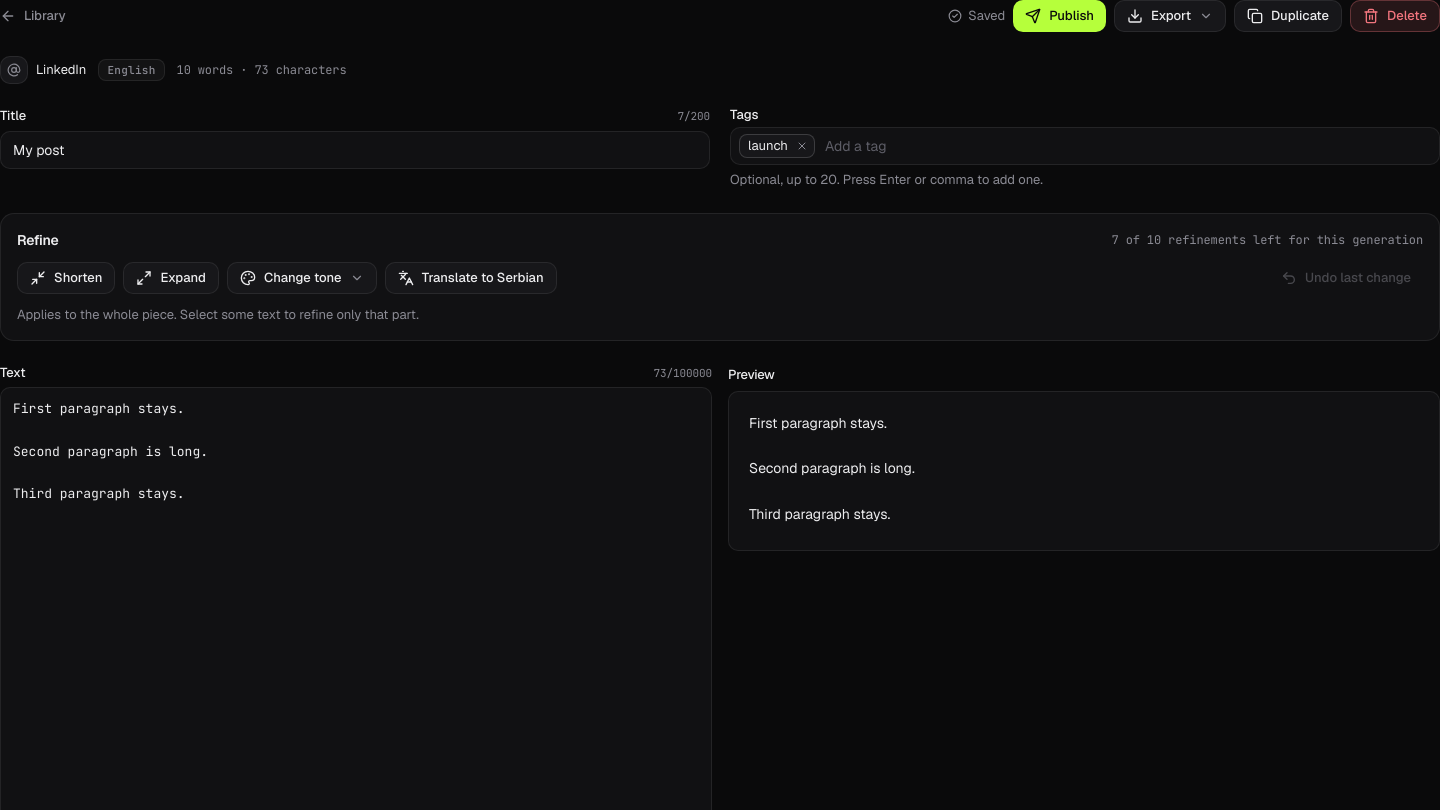
Test: ContentEditor › asks before deleting
Click the button "Delete" at (1395, 16), box [1350,0,1439,32]
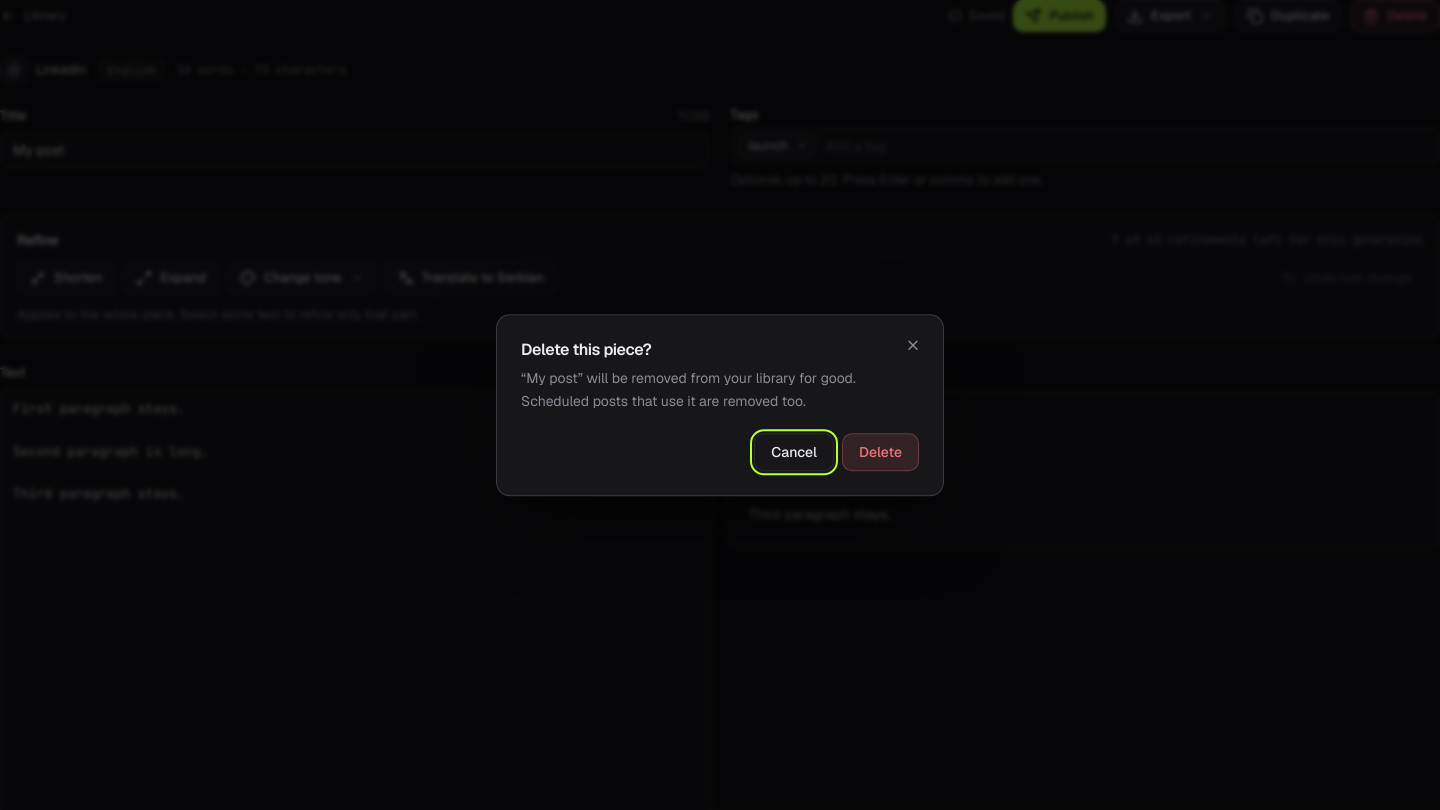
Expected: the dialog shows "Delete this piece?", [521,339,652,360]
Expected: the dialog shows "My post", [521,369,856,410]
Click the button "Cancel" at (794, 452), box [754,433,834,471]
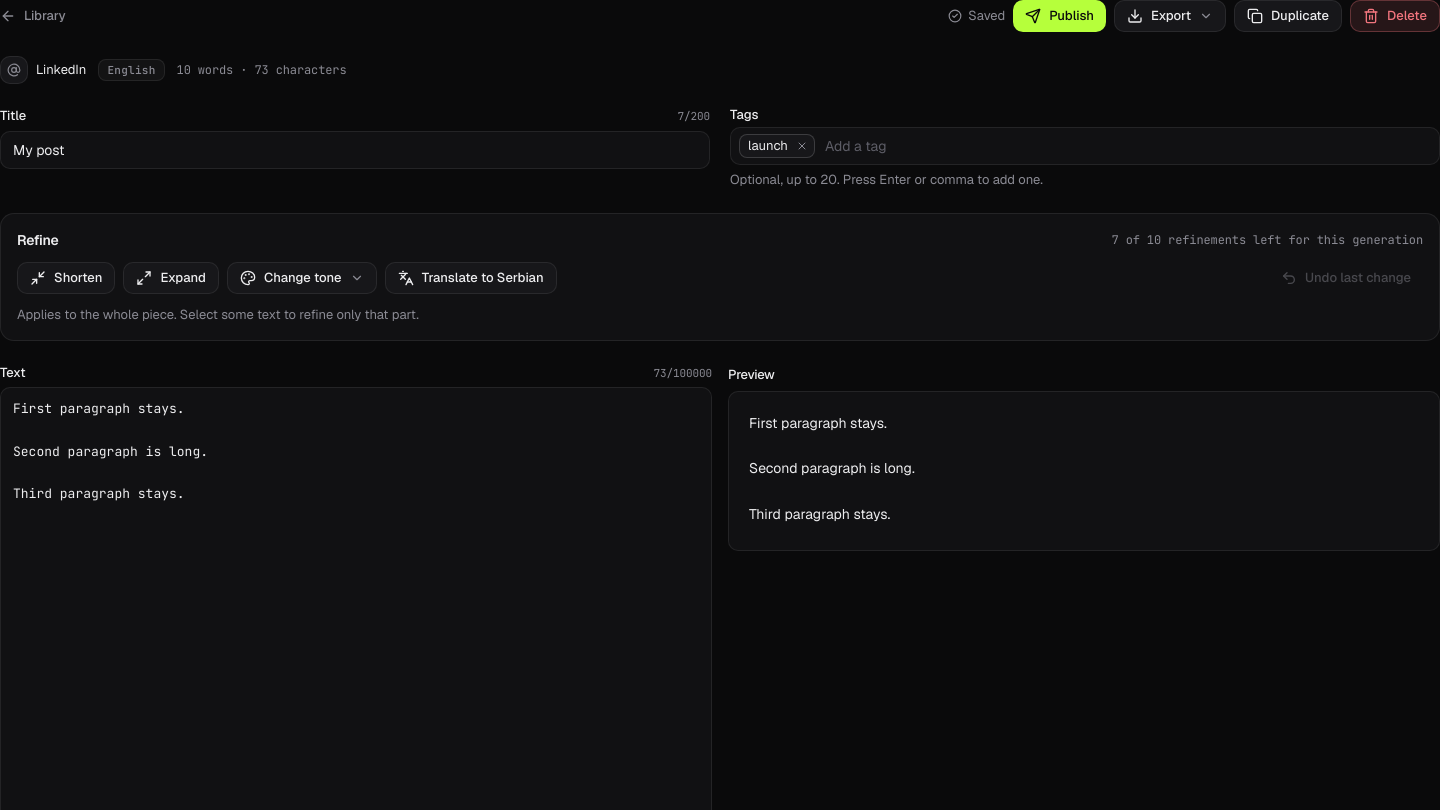
Expected: the dialog is gone
